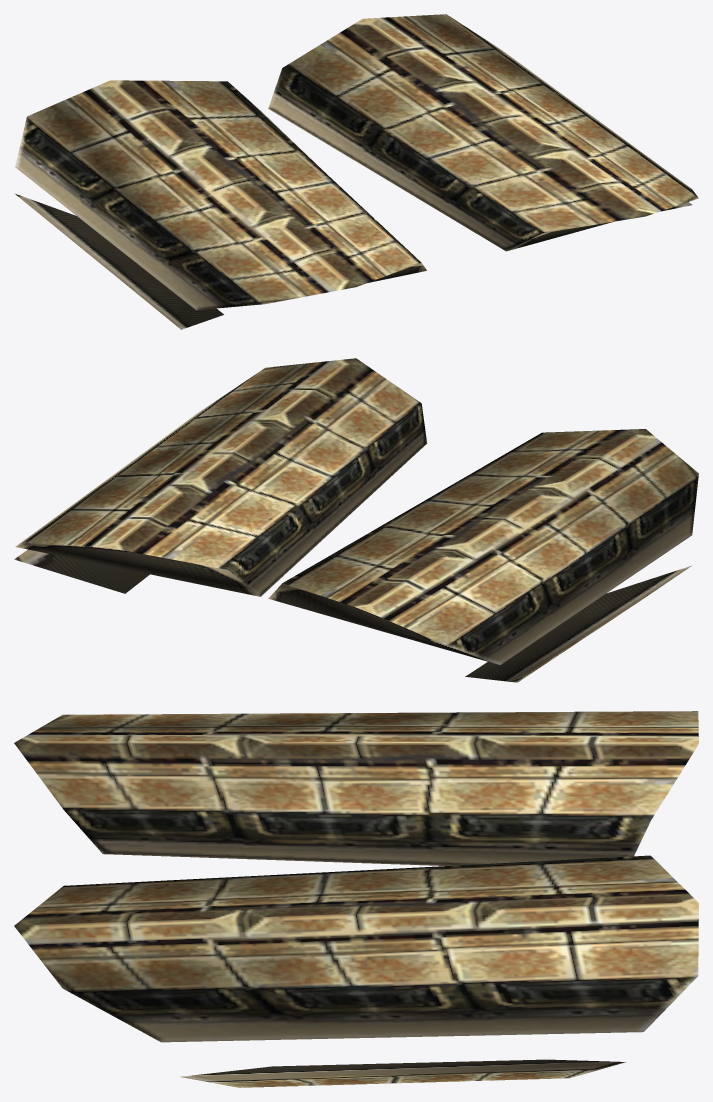
The model's file is LegPads5.glb.
3 renders of one model, top to bottom at view 1: azimuth 30°, elevation 25°; view 2: azimuth 150°, elevation 25°; view 3: azimuth 270°, elevation 25°, orthographic. The views are drawn at different scales.
Visible parts, largest first — view 1: LegPads5; view 2: LegPads5; view 3: LegPads5.
Part boxes in pixels (x1,y1,x2,y2): LegPads5: (14, 14, 698, 329); LegPads5: (14, 358, 698, 682); LegPads5: (14, 711, 698, 1087).
Size of the model in its own units: 21.54 by 4.08 by 19.31.
1 material, 1 textured.
